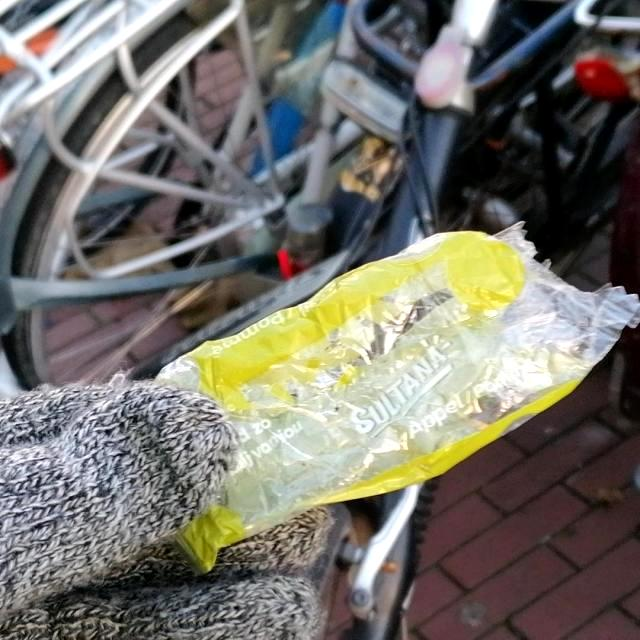Plastic: (152, 217, 640, 577)
